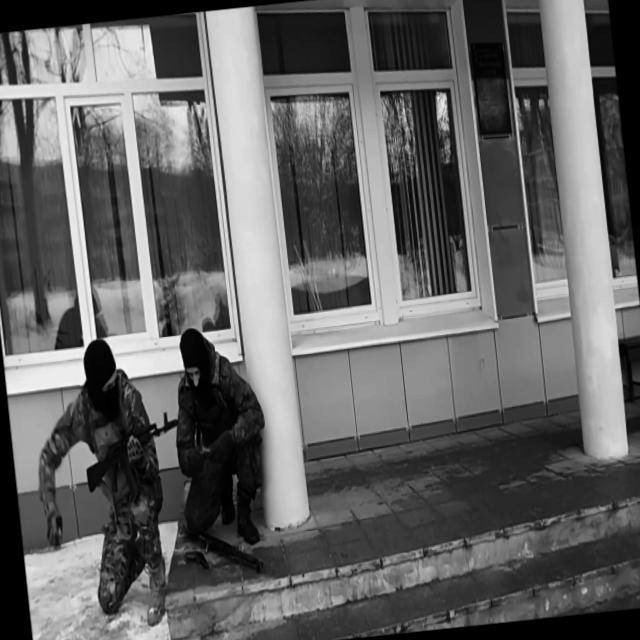gun: (80, 408, 188, 508), (180, 509, 266, 584), (183, 546, 210, 574)
person with a gun: (24, 328, 200, 635), (164, 320, 278, 552)
